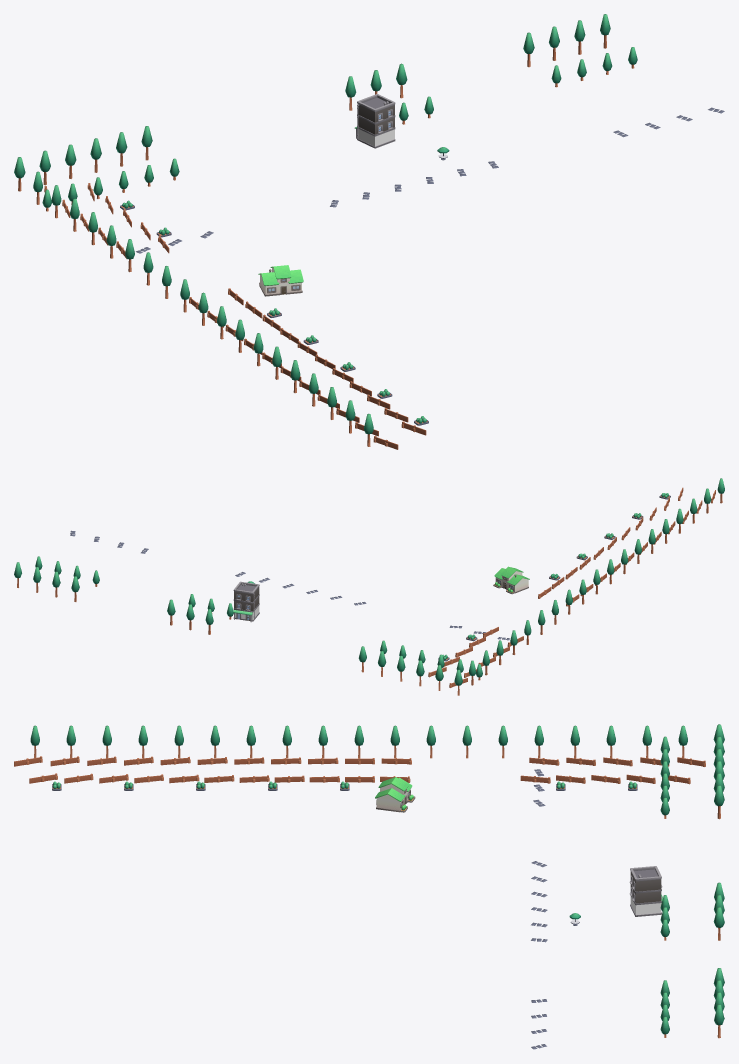
File: wf02-hero-replacement-west.glb
3 renders of one model, top to bottom at view 1: azimuth 30°, elevation 25°; view 2: azimuth 150°, elevation 25°; view 3: azimuth 270°, elevation 25°, orthographic. The views are drawn at different scales.
Visible parts, largest first — view 1: path-stones-messy, building-h, building-type-a; view 2: path-stones-messy, building-h, building-type-a; view 3: path-stones-messy, building-h, building-type-a.
Part boxes in pixels (x1,y1,x2,y2): path-stones-messy: (14,14,724,449); building-h: (354,94,395,148); building-type-a: (258,265,303,296); path-stones-messy: (14,478,724,695); building-h: (233,581,259,622); building-type-a: (493,566,529,594); path-stones-messy: (14,724,724,1049); building-h: (629,866,662,916); building-type-a: (375,777,415,812).
Size of the model in its own units: 38.67 by 2.33 by 39.5.
Materials: 4 (4 with a texture image).
